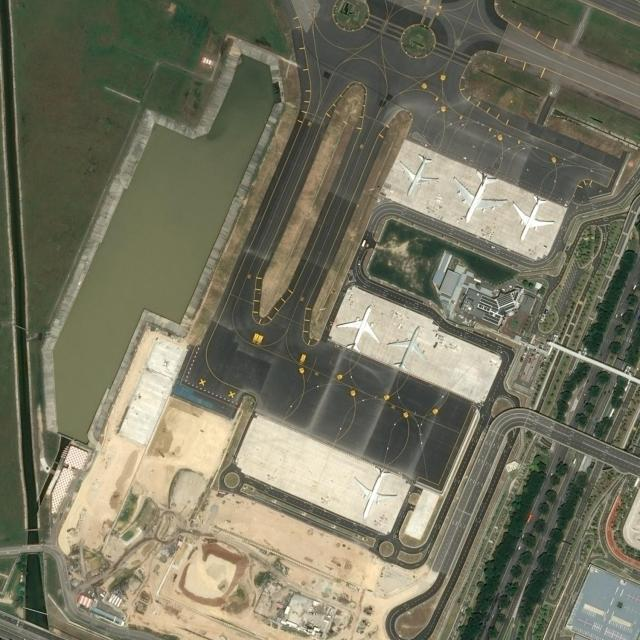Aircraft: (452, 168, 506, 223), (453, 168, 507, 222), (349, 464, 397, 518), (353, 464, 398, 519), (336, 303, 380, 353), (511, 192, 555, 241), (336, 305, 378, 353), (513, 195, 555, 242), (396, 152, 438, 198), (387, 325, 428, 372), (387, 324, 427, 372), (398, 152, 439, 197)
